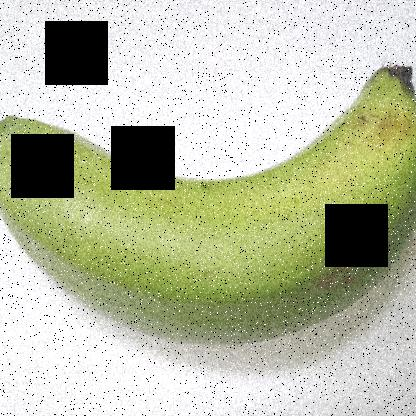freshunripe: (0, 52, 415, 353)
